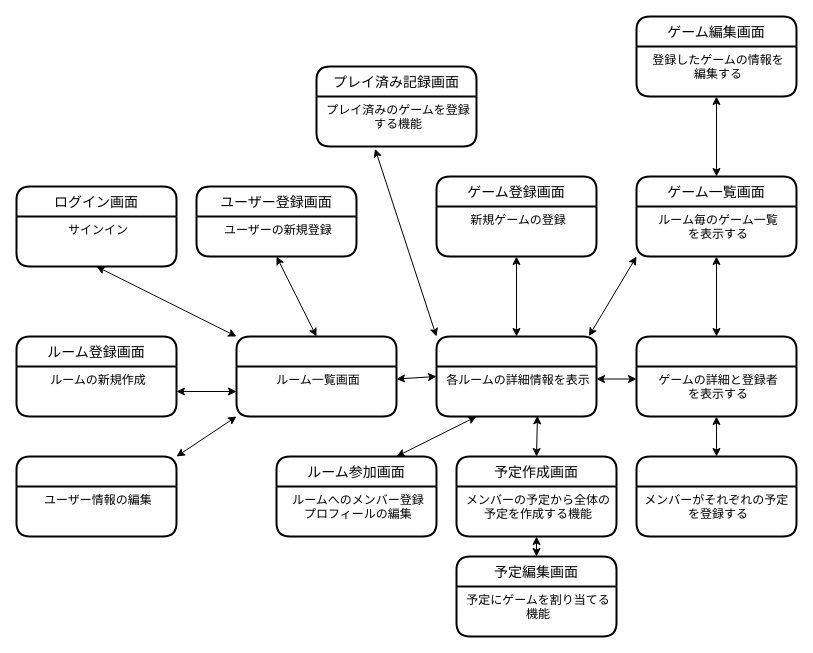
Some shapes in this 813 by 653 pixel diagram are drawn without their labels. Here are the shapes that lost their labels. From the top down, the box of each, then its label:
(235, 335, 397, 417): トップ画面
(435, 335, 597, 417): ルーム詳細画面
(635, 335, 797, 417): ゲーム詳細登録画面
(15, 455, 177, 537): ユーザー情報編集画面
(635, 455, 797, 537): 個人予定登録画面
